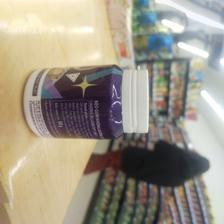Xylitol_BTS: (20, 64, 152, 137)
